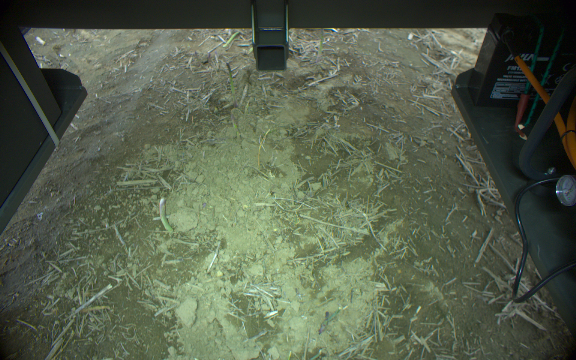aspa: (157, 195, 176, 234), (223, 62, 238, 98), (228, 113, 242, 141), (222, 30, 241, 50)
